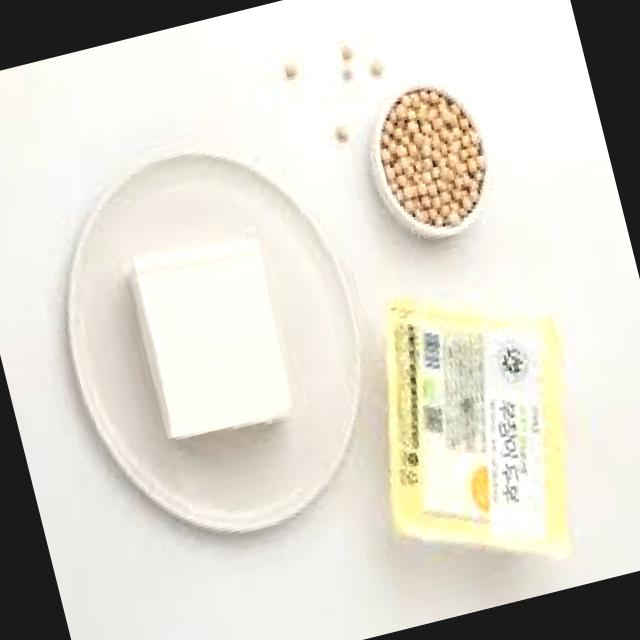tof: (314, 254, 628, 602), (110, 220, 312, 460)
